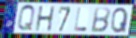7: (58, 6, 73, 33)
B: (90, 6, 112, 34)
H: (35, 6, 56, 33)
L: (73, 7, 88, 32)
Q: (17, 4, 36, 33), (110, 7, 129, 34)
